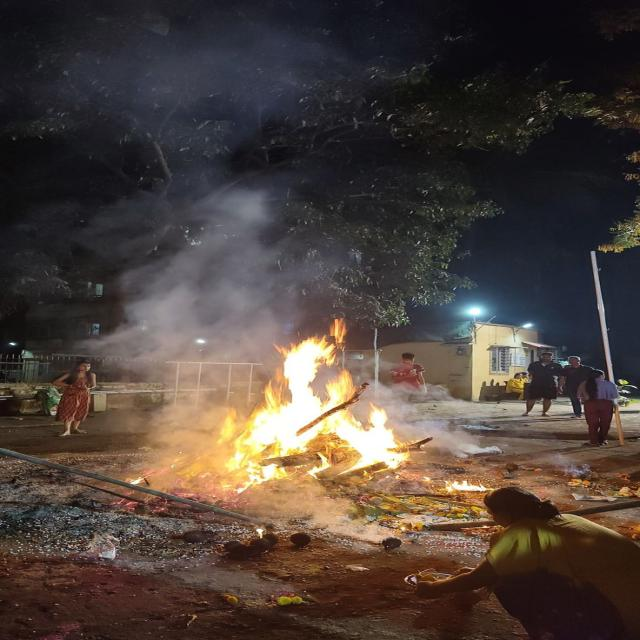fire: (220, 318, 408, 495)
